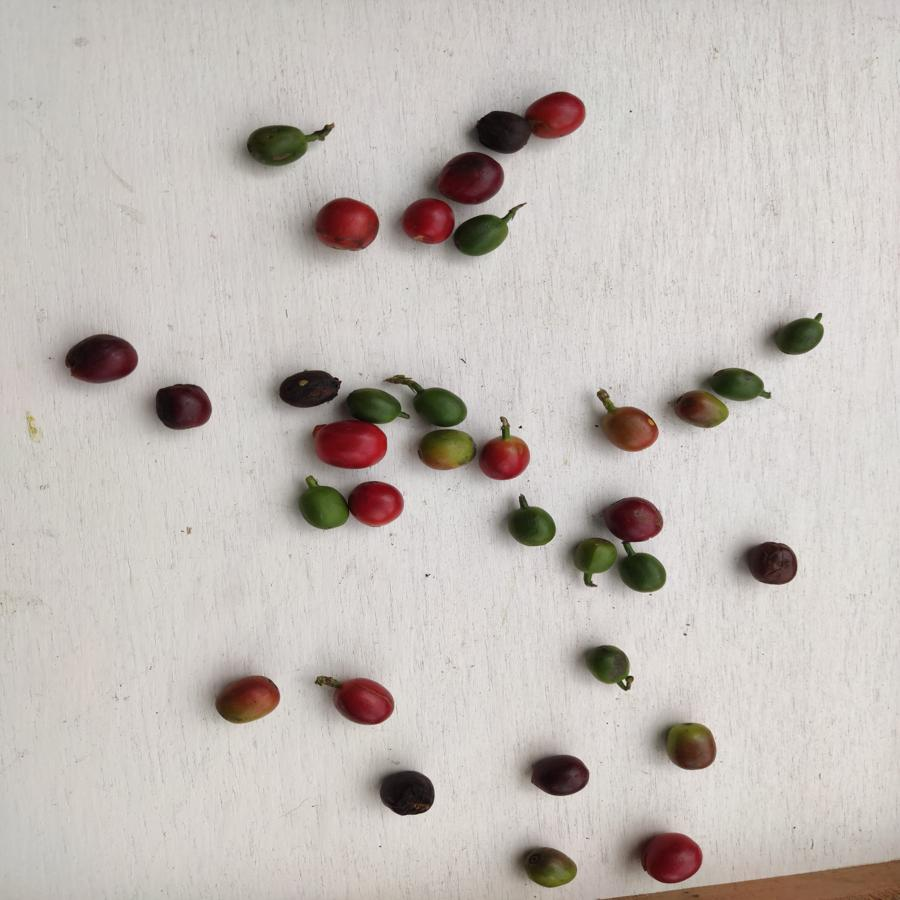Inmaduro: (244, 123, 311, 169), (453, 211, 511, 260), (298, 484, 350, 533), (507, 502, 559, 549), (410, 386, 468, 427), (619, 550, 668, 597), (708, 365, 767, 404), (776, 314, 827, 358), (347, 385, 405, 422), (587, 644, 636, 687), (572, 536, 617, 576)
Maduro: (309, 419, 390, 471), (313, 193, 381, 253), (327, 677, 403, 726), (637, 829, 703, 883), (528, 92, 588, 140), (349, 479, 406, 529), (477, 435, 532, 483), (400, 199, 456, 243)
Pinton: (212, 672, 283, 726), (599, 402, 663, 455), (662, 721, 717, 772), (417, 428, 476, 474), (519, 846, 583, 888), (672, 388, 730, 432)
Sobremaduro: (431, 148, 507, 205), (60, 332, 141, 384), (600, 495, 665, 544), (155, 381, 214, 434), (743, 539, 804, 590), (528, 751, 595, 797), (375, 769, 437, 817), (472, 109, 531, 156), (275, 369, 341, 411)
